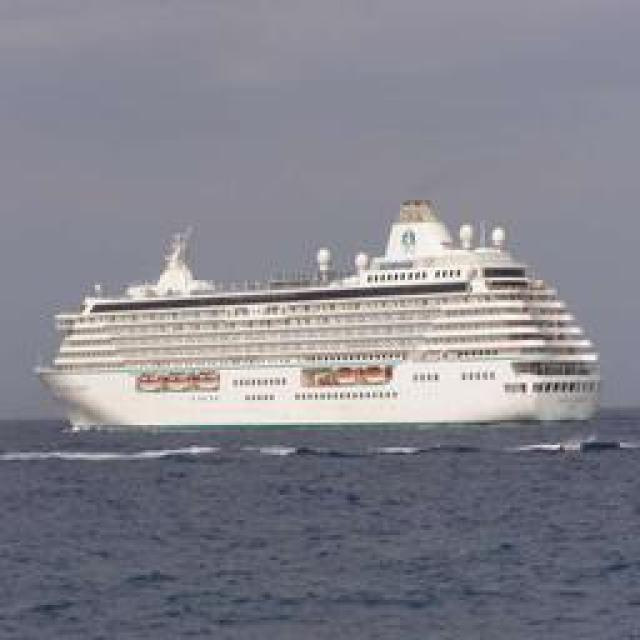Ship: (36, 192, 609, 430)
